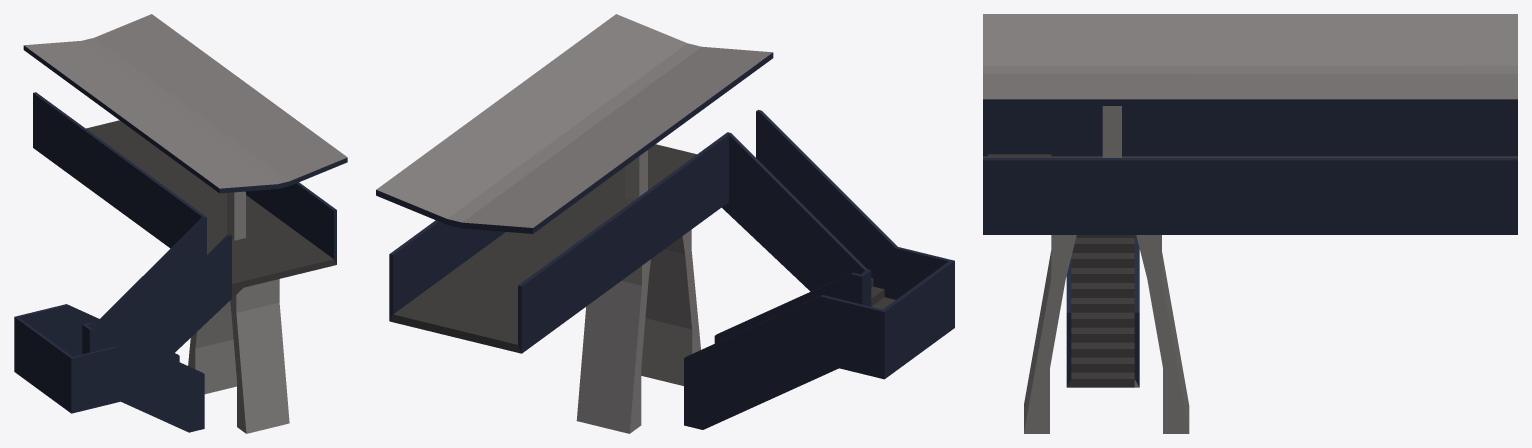
File: buildings-trainstation-oberpass.glb
3 renders of one model, left to right at view 1: azimuth 30°, elevation 25°; view 2: azimuth 150°, elevation 25°; view 3: azimuth 270°, elevation 25°, orthographic. The views are drawn at different scales.
Parts seen in each view (by area): view 1: trainstation-oberpass; view 2: trainstation-oberpass; view 3: trainstation-oberpass.
Boxes of the visible parts, <box> form: trainstation-oberpass: <box>14,14,347,433</box>; trainstation-oberpass: <box>376,14,954,433</box>; trainstation-oberpass: <box>983,14,1517,433</box>.
Bounding box in the file's own units: 8.95 × 8.25 × 10.99.
